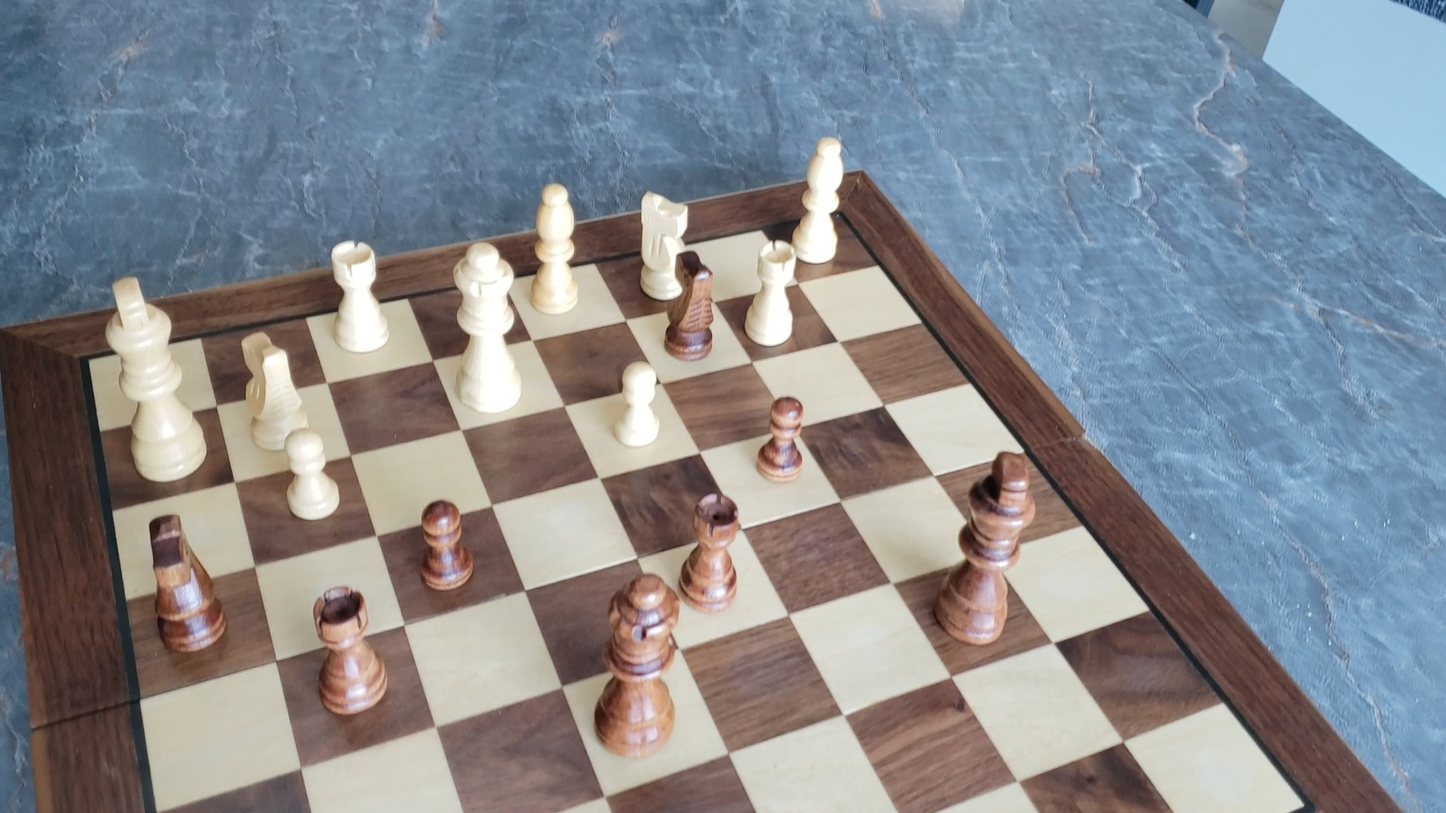black-king: (934, 447, 1037, 647)
black-knight: (126, 513, 240, 662), (663, 250, 717, 362)
black-pawn: (416, 496, 475, 593), (755, 393, 808, 484)
black-queen: (591, 571, 686, 759)
black-rook: (310, 584, 390, 716), (680, 489, 744, 612)
white-bishop: (789, 131, 849, 267), (528, 177, 581, 318)
white-king: (100, 272, 211, 487)
white-knight: (237, 328, 311, 454), (633, 187, 692, 304)
white-pawn: (277, 427, 345, 525), (608, 357, 668, 452)
white-queen: (448, 238, 526, 417)
white-rook: (326, 237, 391, 356), (743, 236, 802, 351)
